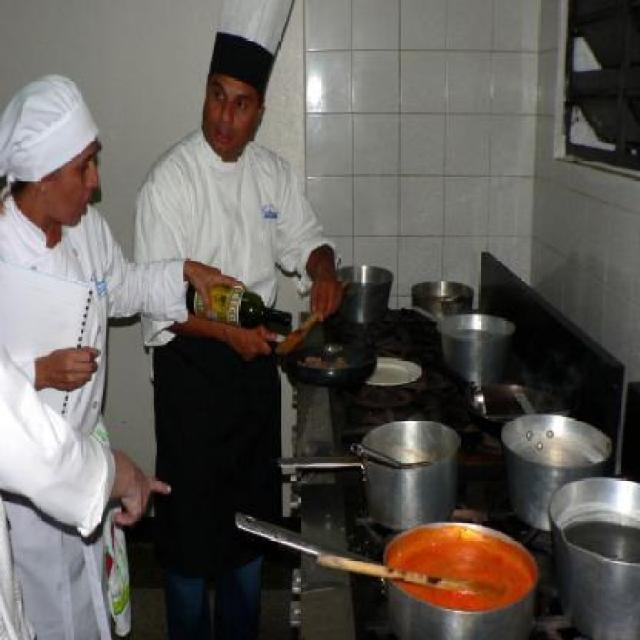Person: (0, 72, 248, 638), (133, 0, 346, 638)
